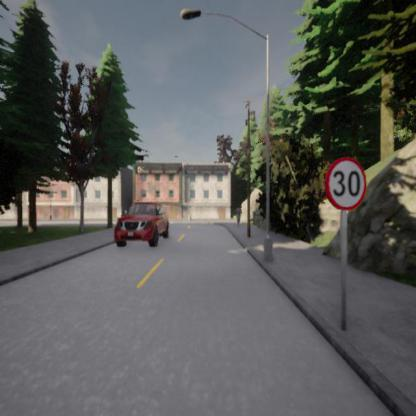traffic_sign_30: (324, 155, 366, 212)
vehicle: (114, 203, 170, 246)
